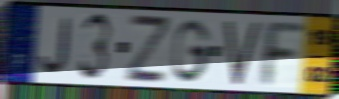3: (76, 11, 119, 82)
F: (261, 18, 308, 89)
G: (171, 17, 212, 84)
J: (38, 16, 72, 75)
V: (223, 19, 263, 87)
Z: (125, 12, 171, 85)
